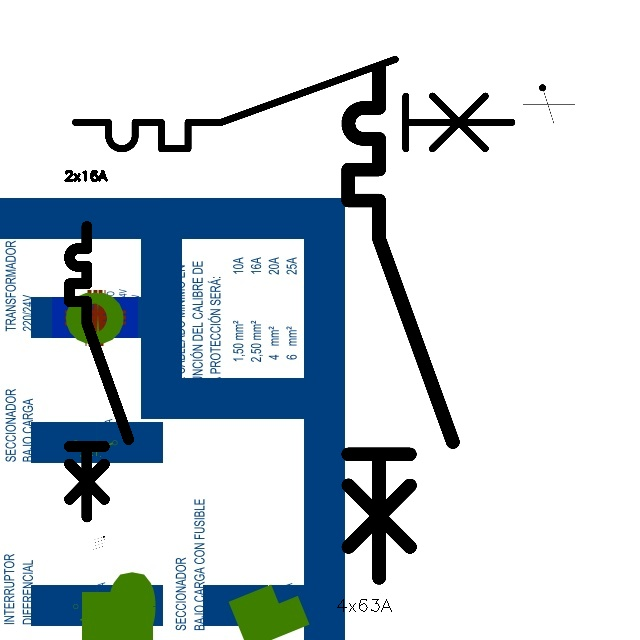interruptor_termomagnetico: (335, 56, 466, 591), (64, 48, 523, 160), (62, 219, 136, 524)
